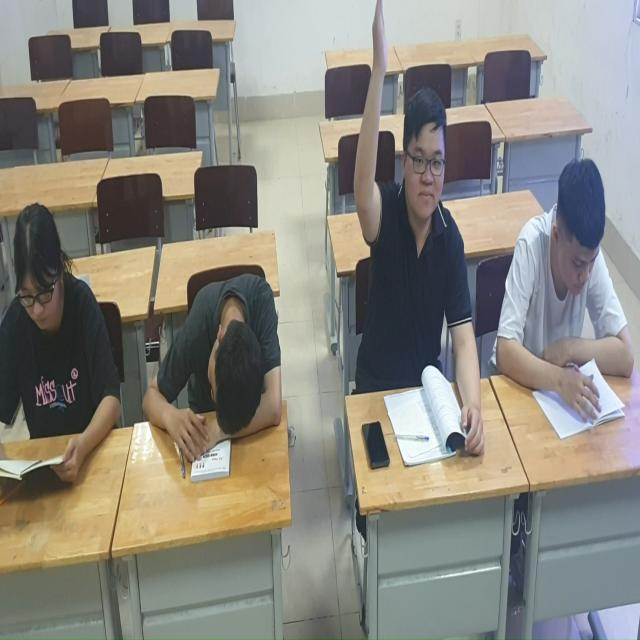raise_hand: (324, 1, 486, 455)
read: (496, 116, 634, 427), (1, 160, 114, 518)
sleep: (139, 232, 283, 473)
